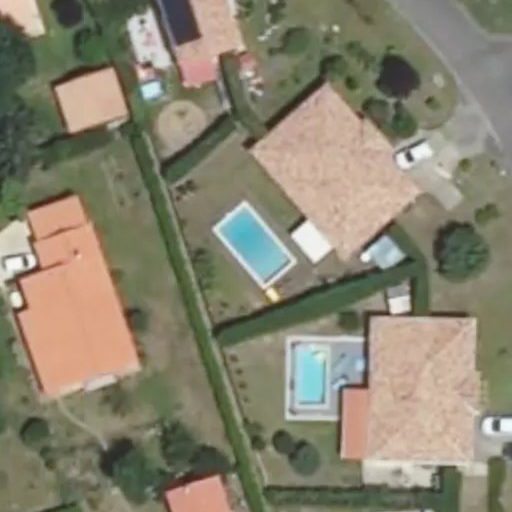pool: (216, 226, 294, 257)
